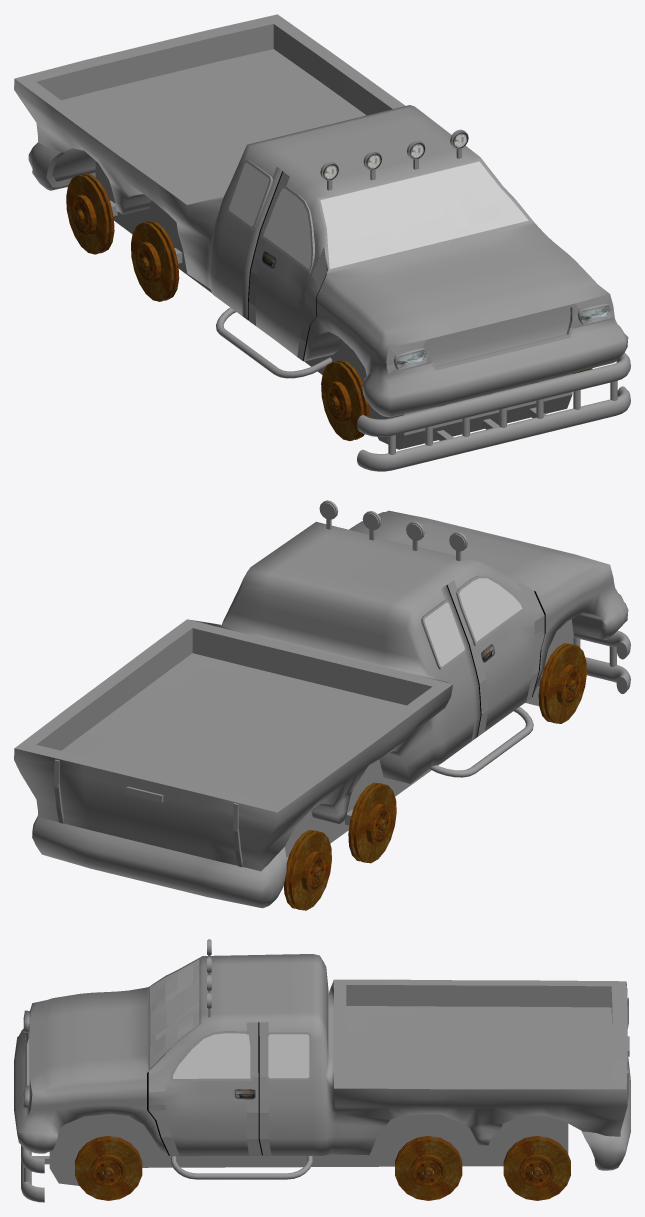
File: Static_truck.FBX
3 views of the same model, one above another, from view 1: azimuth 30°, elevation 25°; view 2: azimuth 150°, elevation 25°; view 3: azimuth 270°, elevation 25° (orthographic). The views are drawn at different scales.
Visible parts, largest first — view 1: Static_truck; view 2: Static_truck; view 3: Static_truck.
Boxes of the visible parts, x1,y1,x2,y2 form: Static_truck: (14,14,630,471); Static_truck: (14,500,630,910); Static_truck: (14,939,630,1202).
Bounding box in the file's own units: 148 × 116 × 348.
